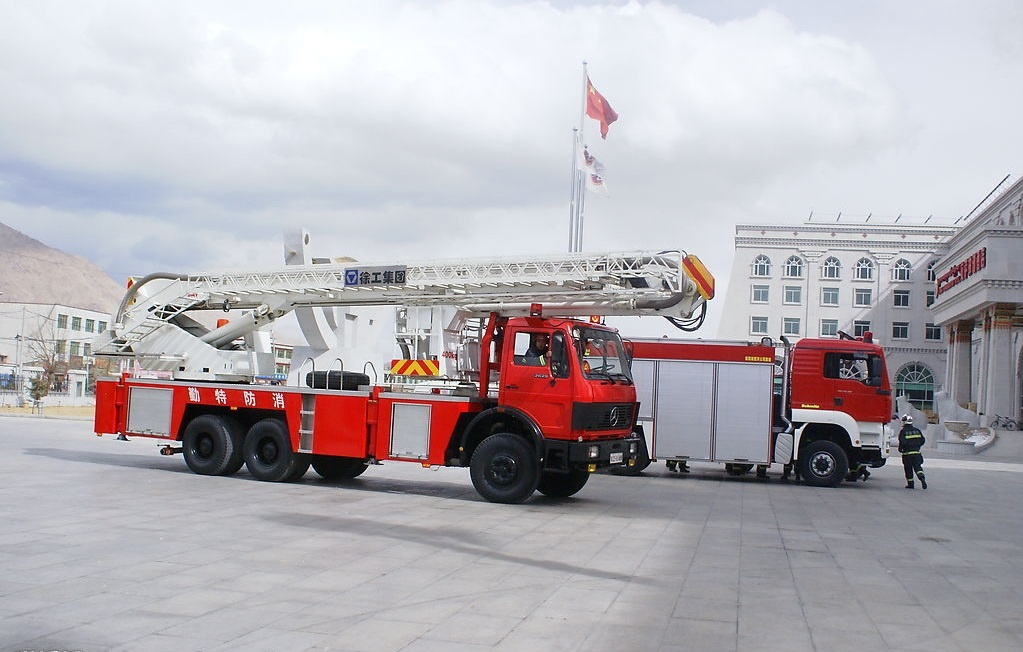fire engine: (81, 218, 678, 526), (595, 311, 908, 496)
